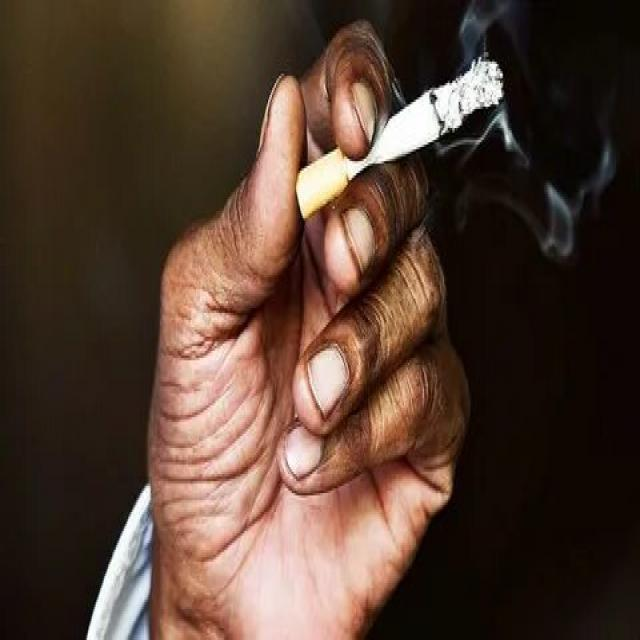smoke: (294, 57, 510, 225)
